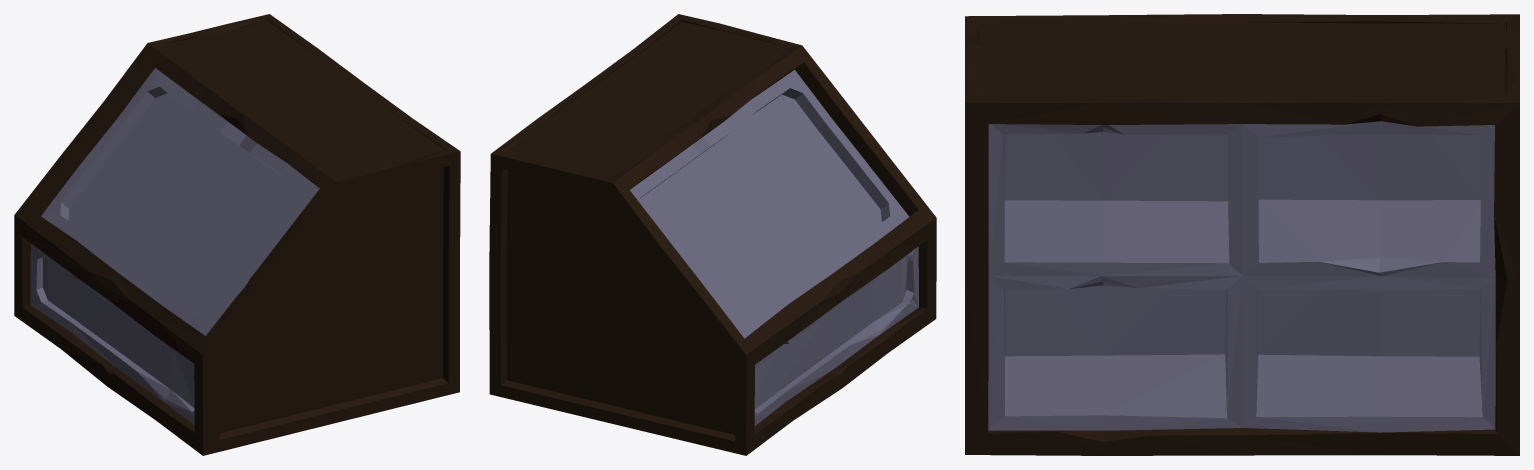
The model's file is SFFA_Table_Modular_Top_1.fbx.
3 views of the same model, side by side, from view 1: azimuth 30°, elevation 25°; view 2: azimuth 150°, elevation 25°; view 3: azimuth 270°, elevation 25° (orthographic). The views are drawn at different scales.
Parts seen in each view (by area): view 1: SFFA_Table_Modular_Top_1; view 2: SFFA_Table_Modular_Top_1; view 3: SFFA_Table_Modular_Top_1.
Part boxes in pixels (<box>): SFFA_Table_Modular_Top_1: <box>14,14,460,455</box>; SFFA_Table_Modular_Top_1: <box>489,14,936,455</box>; SFFA_Table_Modular_Top_1: <box>965,14,1519,455</box>.
Bounding box in the file's own units: 119 × 106 × 150.
